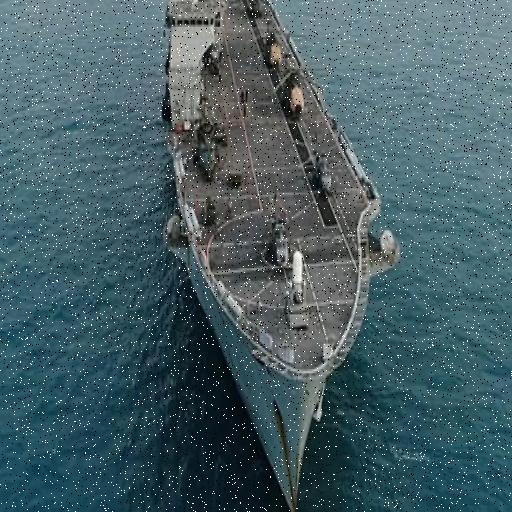Portanaves: (162, 1, 402, 512)
